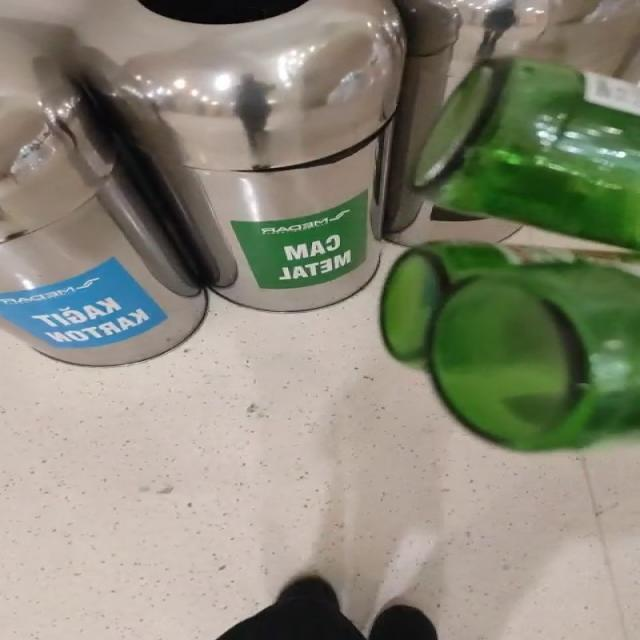Bin: (1, 0, 405, 366)
Glass: (381, 244, 637, 450), (415, 57, 639, 249)
